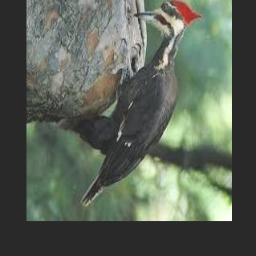Woodpecker: (79, 0, 202, 205)
